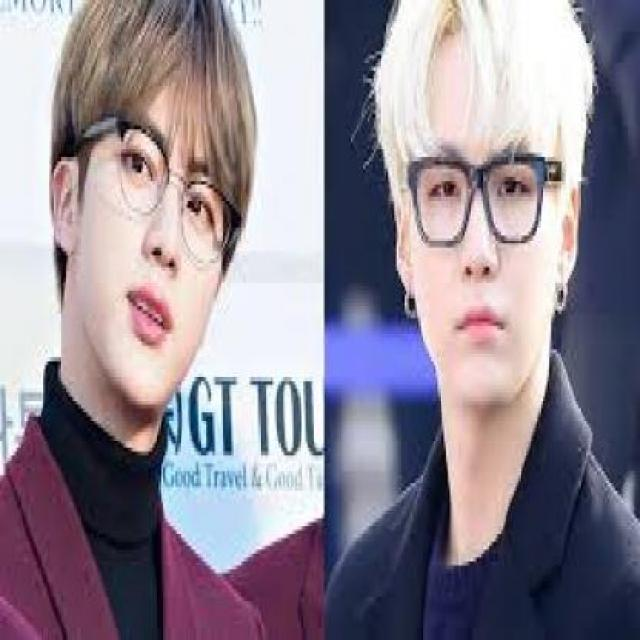glasses: (114, 102, 241, 270), (401, 148, 552, 252)
